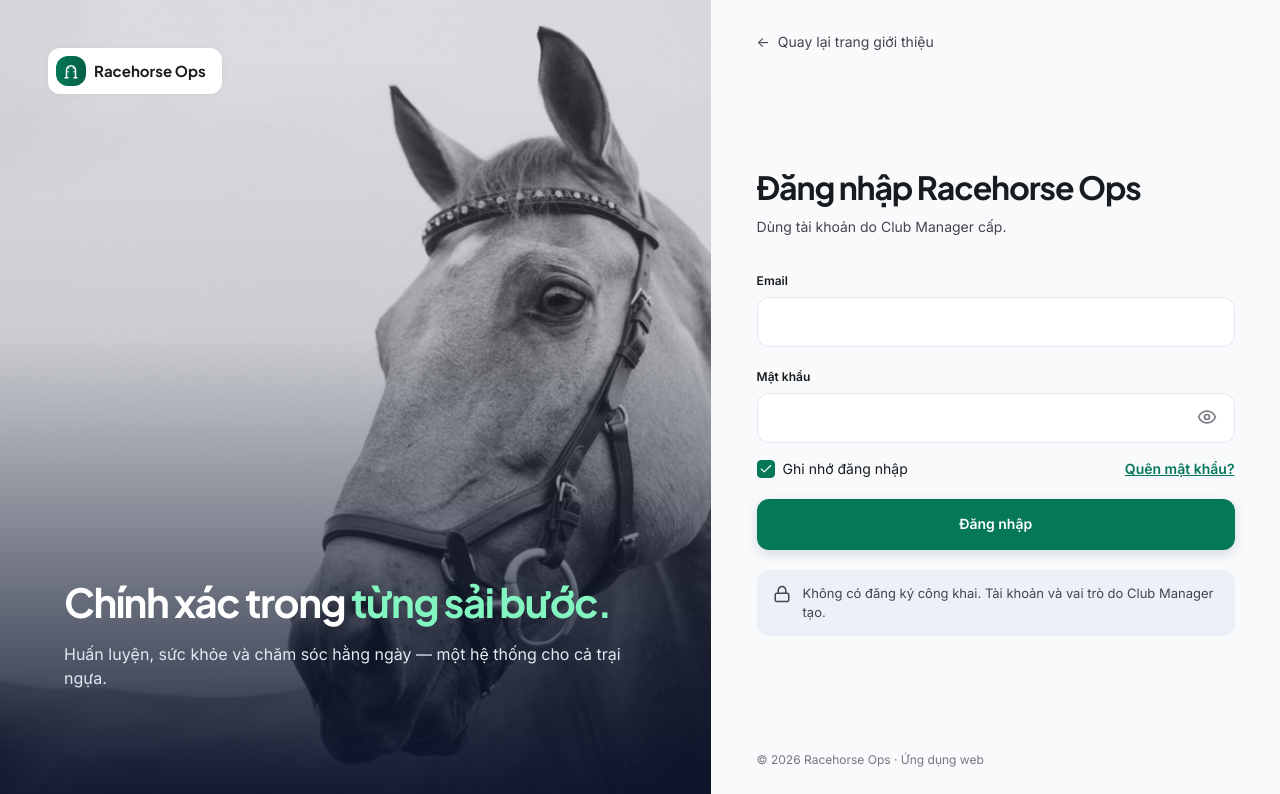
dev + CORE-022 + CORE-033 + clean CORE-036 / production routes › returns TRAINER to the requested /training/sessions/42/evaluation after login
Expected: the heading "Đăng nhập Racehorse Ops" is shown, [757, 167, 1141, 207]
Type "fixture@example.test" into the field labelled "Email" at (996, 322), box [757, 297, 1234, 347]
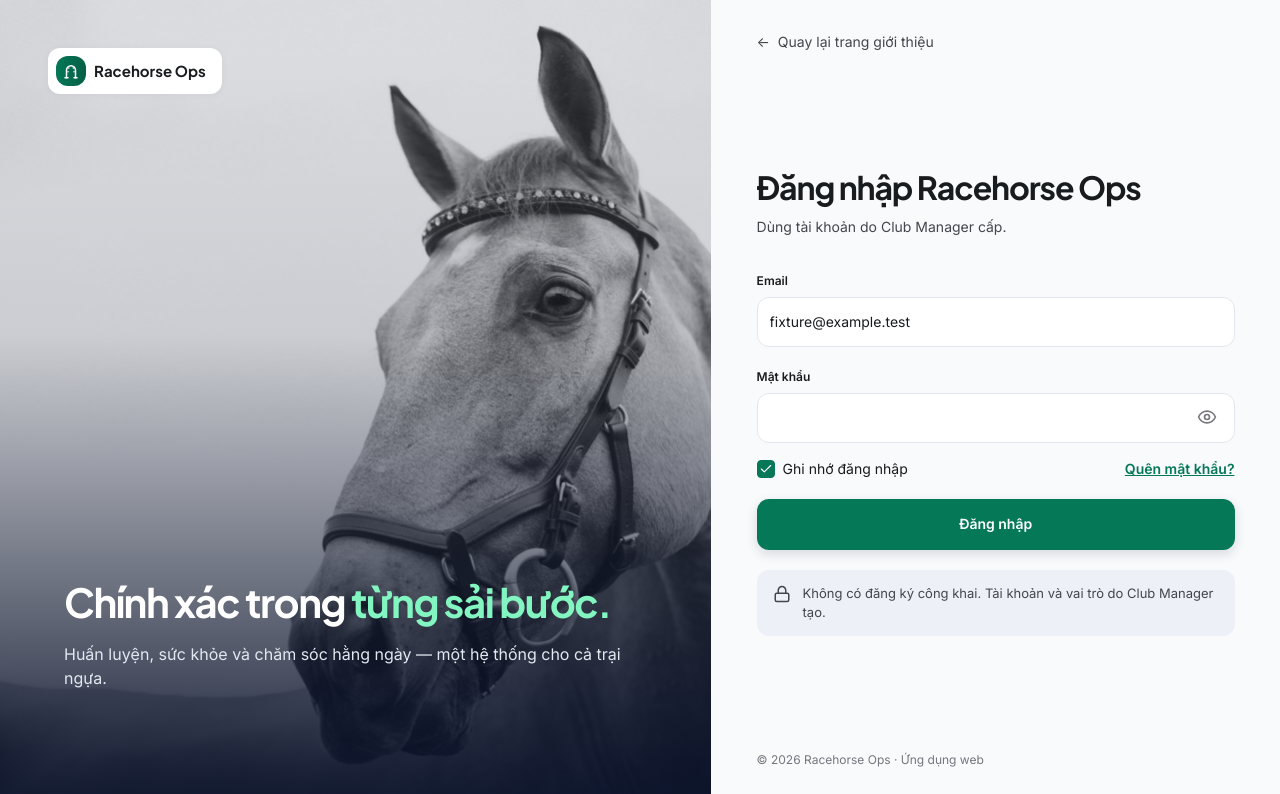
Type "test-fixture-only" into the password field labelled "Mật khẩu" at (996, 418), box [757, 393, 1234, 443]
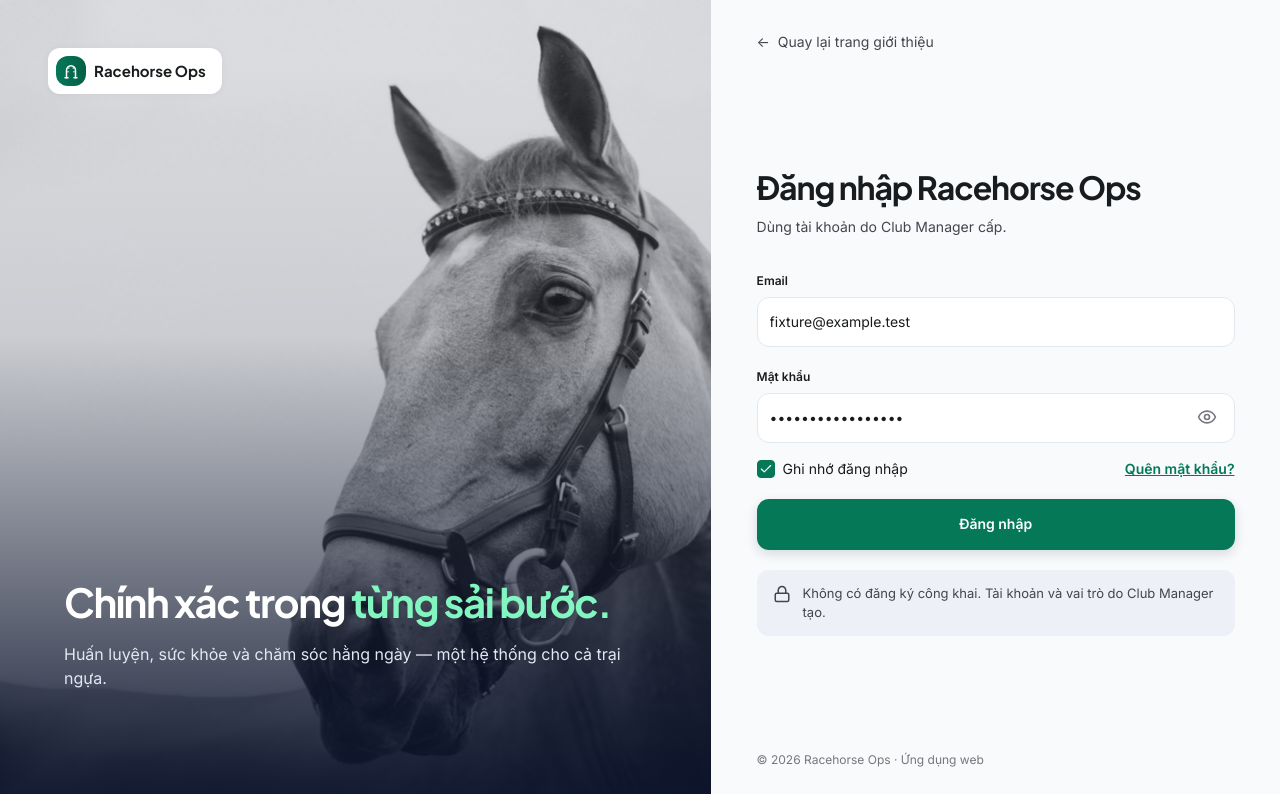
Click the button "Đăng nhập" at (996, 524), box [757, 499, 1234, 550]
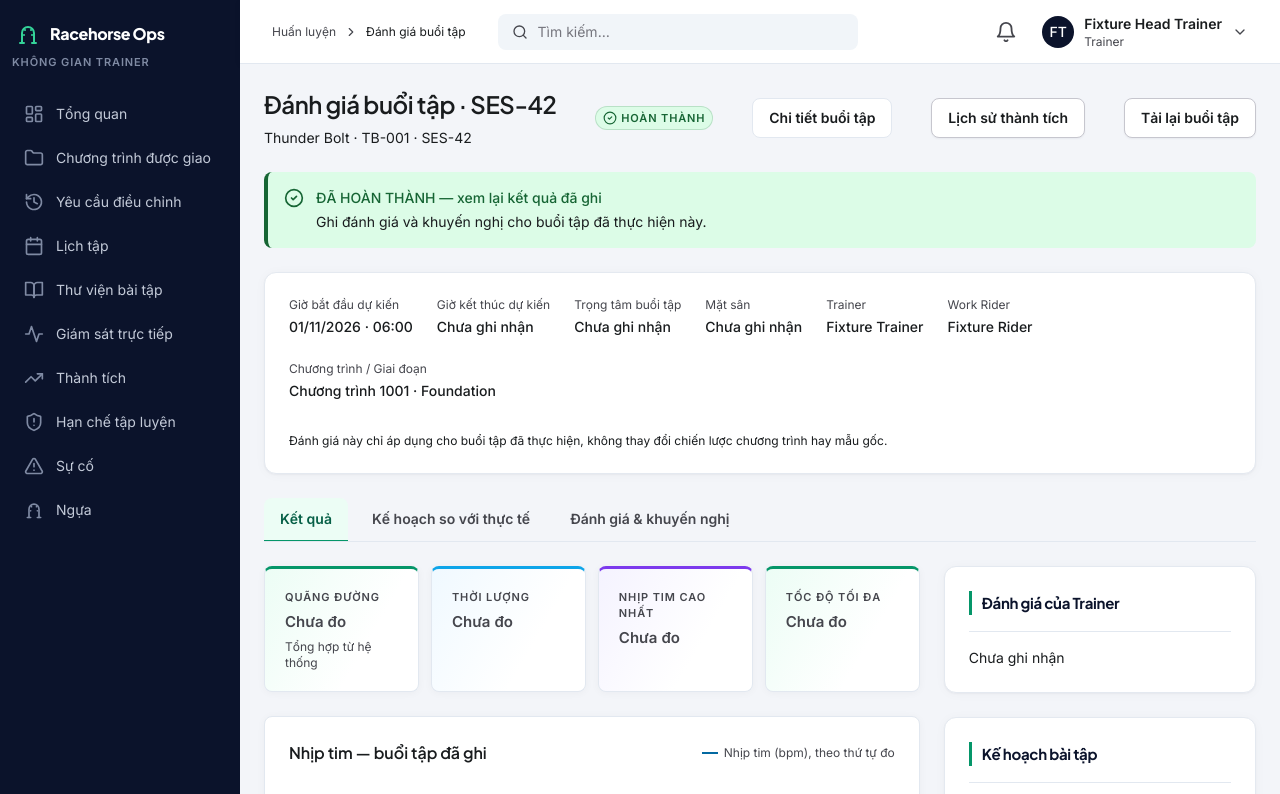
Now the heading "Đánh giá buổi tập · SES-42" is shown, box [264, 88, 556, 120]
